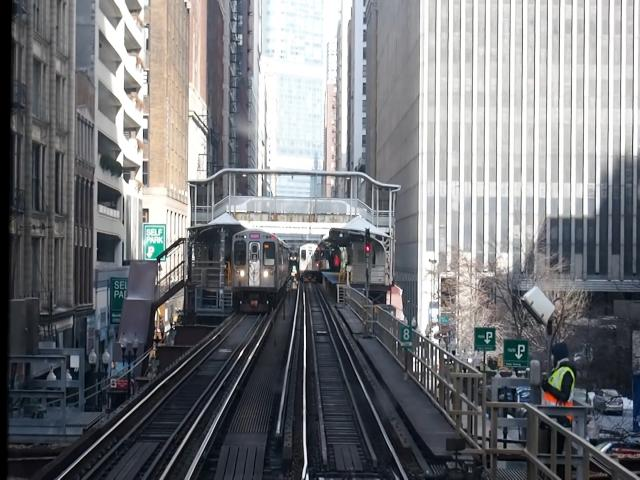signal light: (365, 228, 373, 261)
